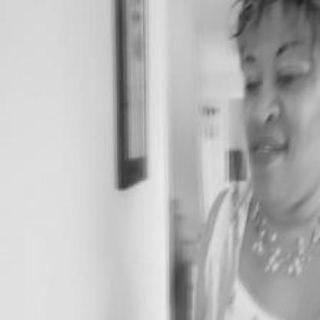other: (245, 133, 289, 170)
